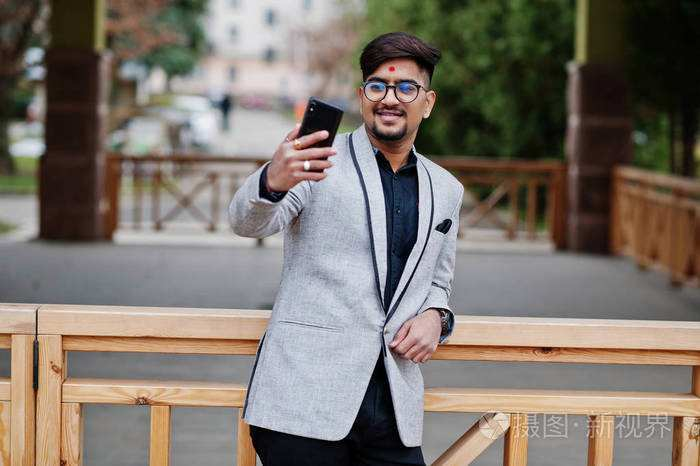taking photos: (267, 94, 346, 194)
